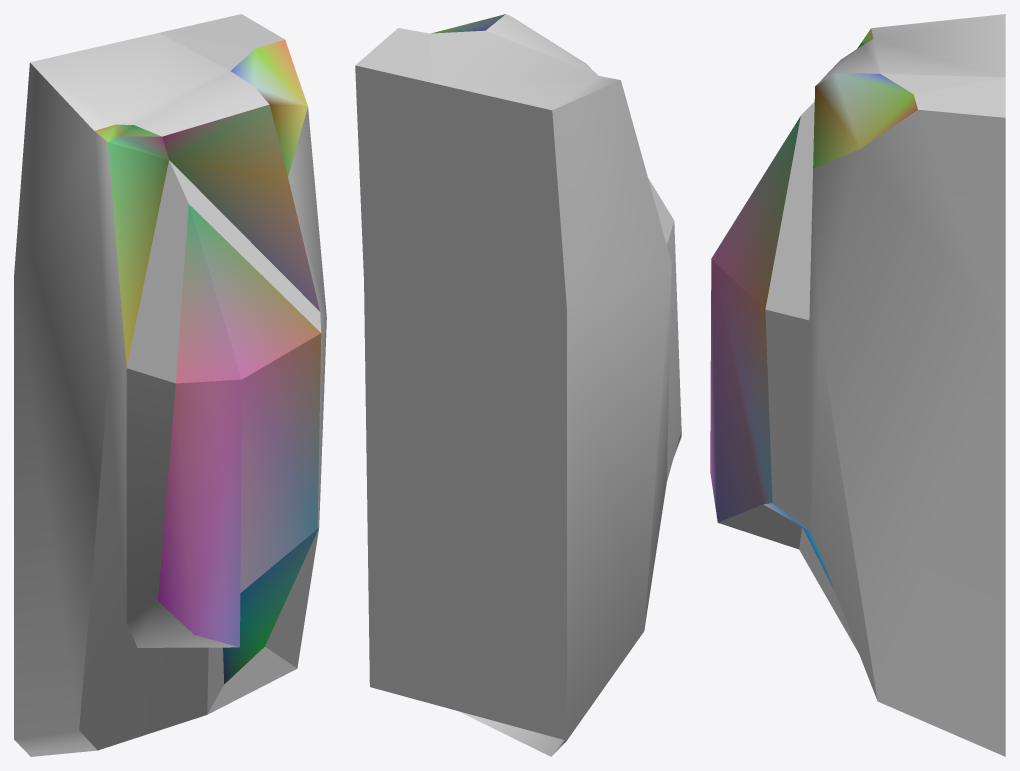
File: Temple_DebrisA.glb
3 renders of one model, left to right at view 1: azimuth 30°, elevation 25°; view 2: azimuth 150°, elevation 25°; view 3: azimuth 270°, elevation 25°, orthographic. The views are drawn at different scales.
Visible parts, largest first — view 1: MeshNode_1, MeshNode_0; view 2: MeshNode_1; view 3: MeshNode_1, MeshNode_0.
Part boxes in pixels (box(x1,y1,x2,y2)): MeshNode_1: box(14, 14, 326, 756); MeshNode_0: box(95, 39, 321, 683); MeshNode_1: box(355, 14, 681, 756); MeshNode_1: box(718, 14, 1005, 756); MeshNode_0: box(710, 29, 917, 588).
Size of the model in its own units: 13.69 by 38.78 by 15.21.
